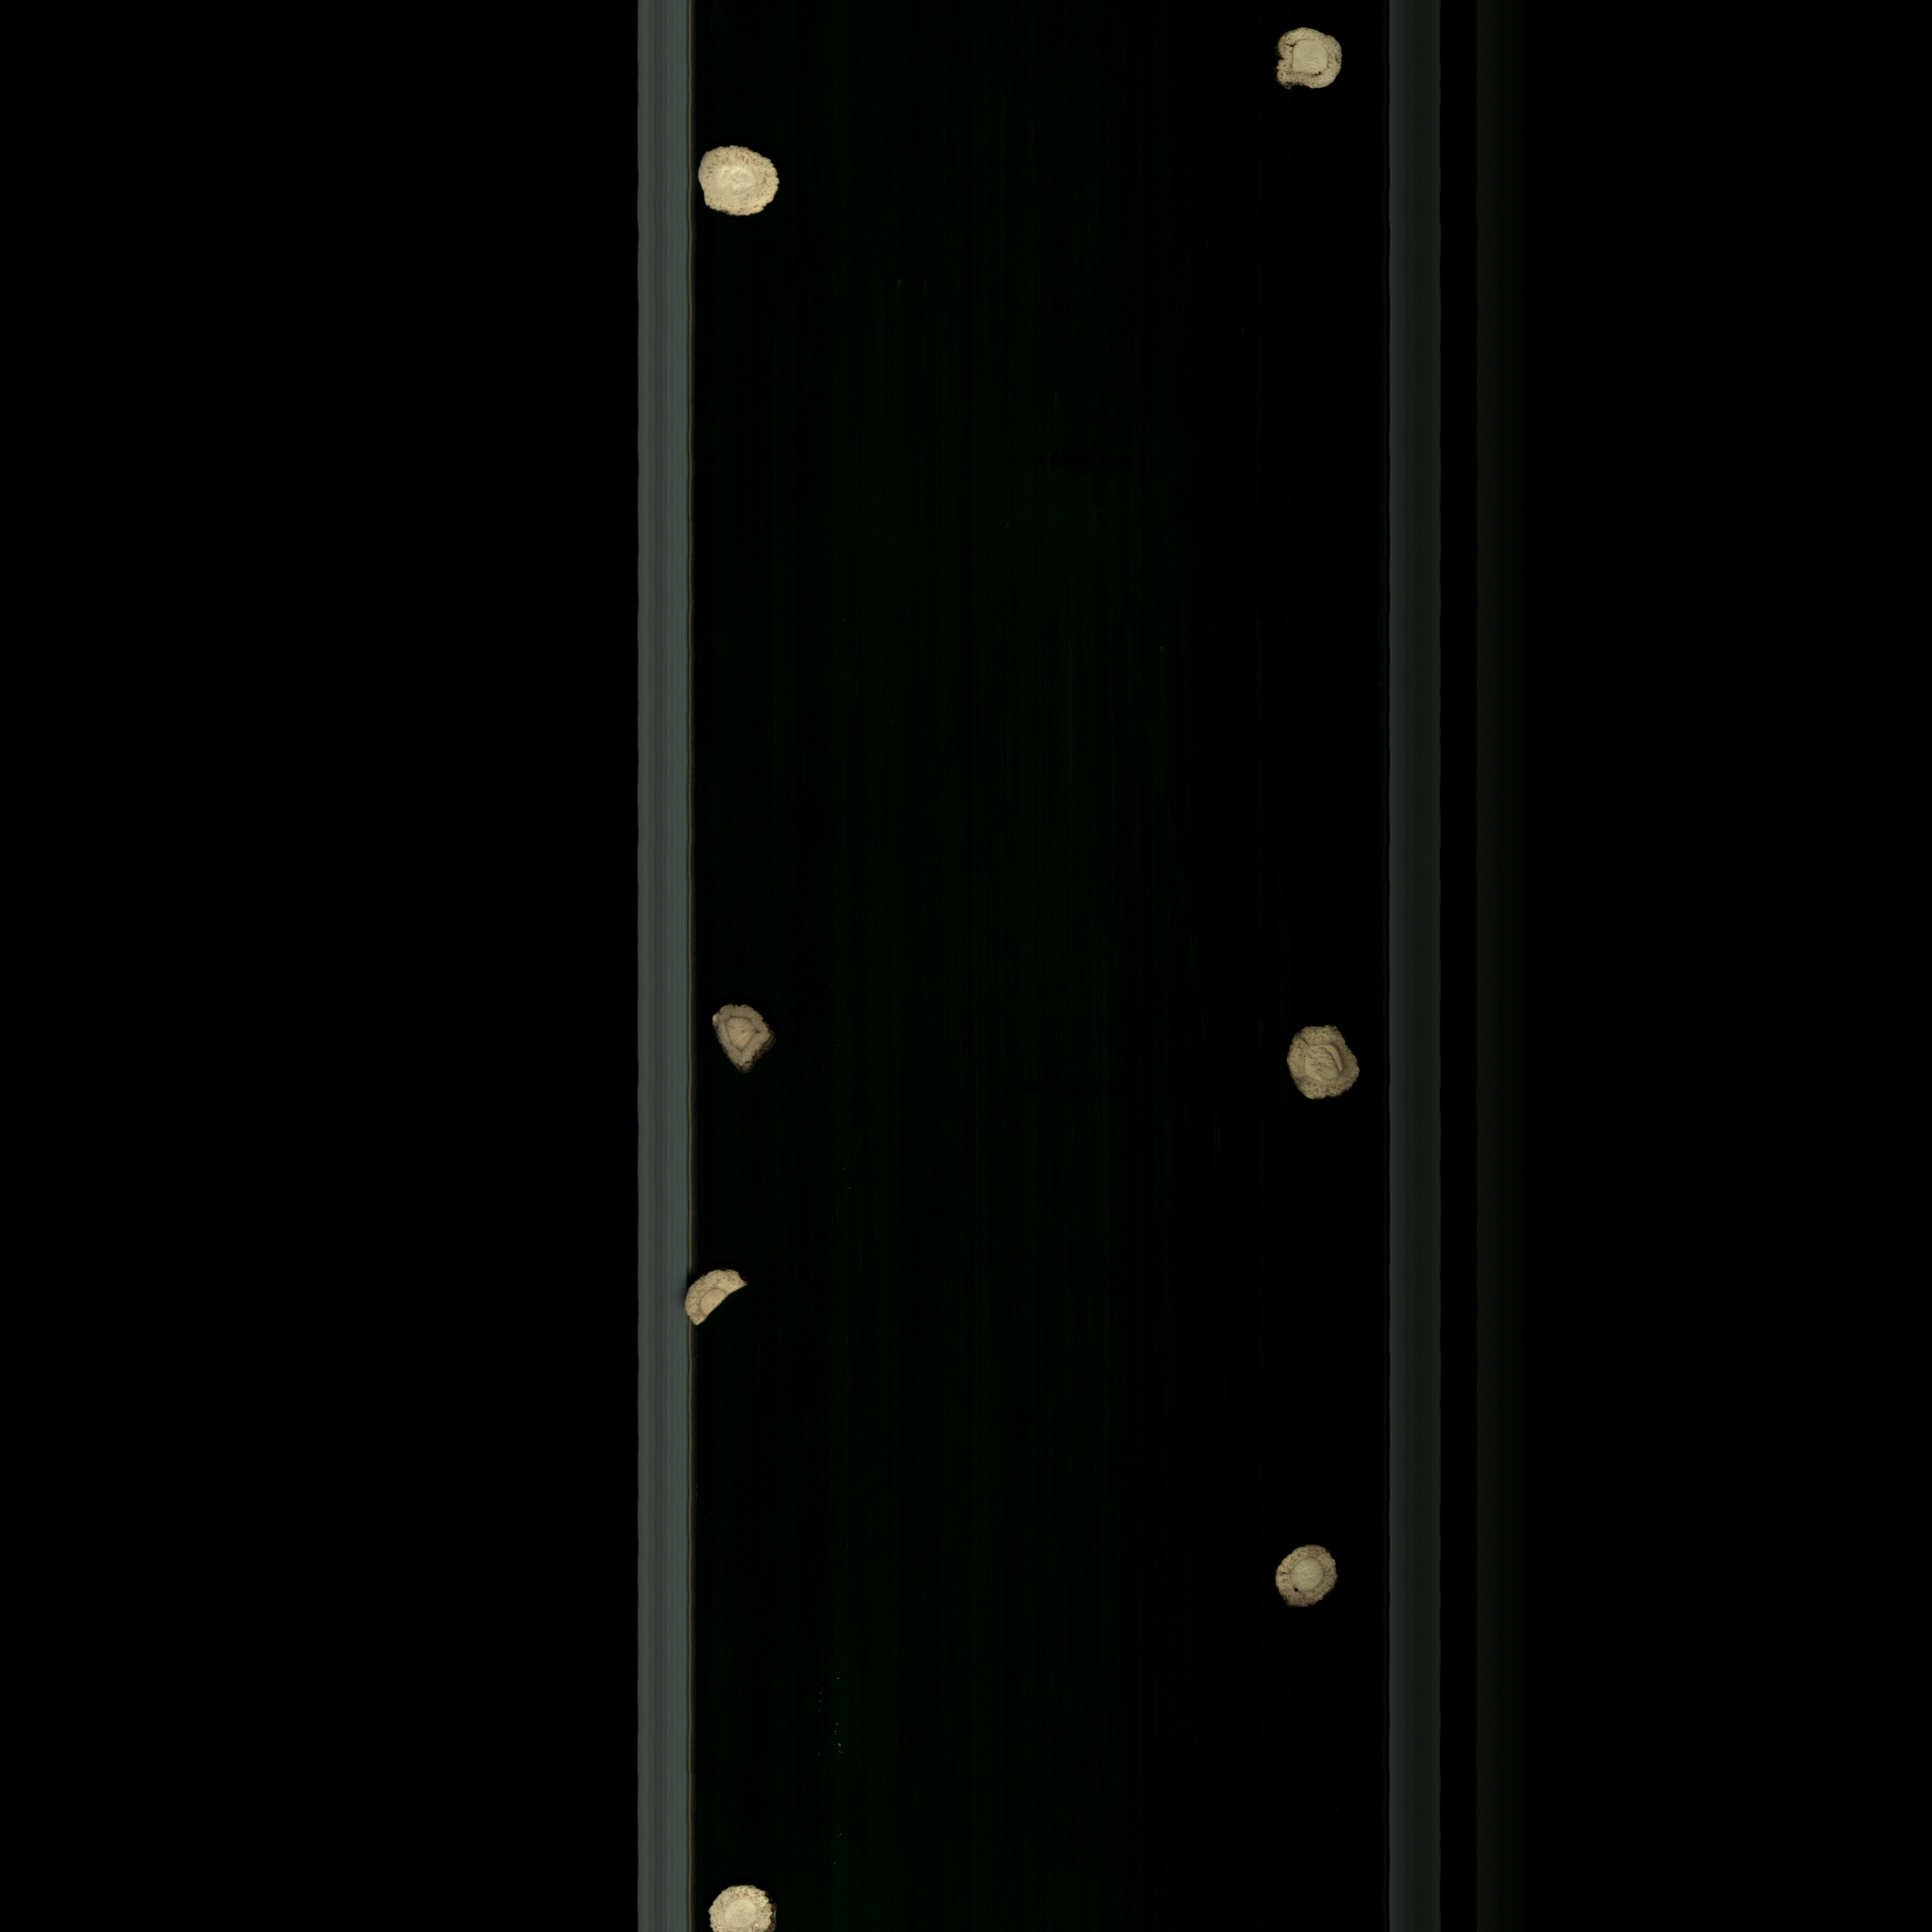debris: (678, 1261, 754, 1330)
hole: (1269, 1539, 1348, 1619)
moldy: (1270, 1017, 1371, 1113), (1256, 27, 1359, 103), (704, 994, 778, 1077)
